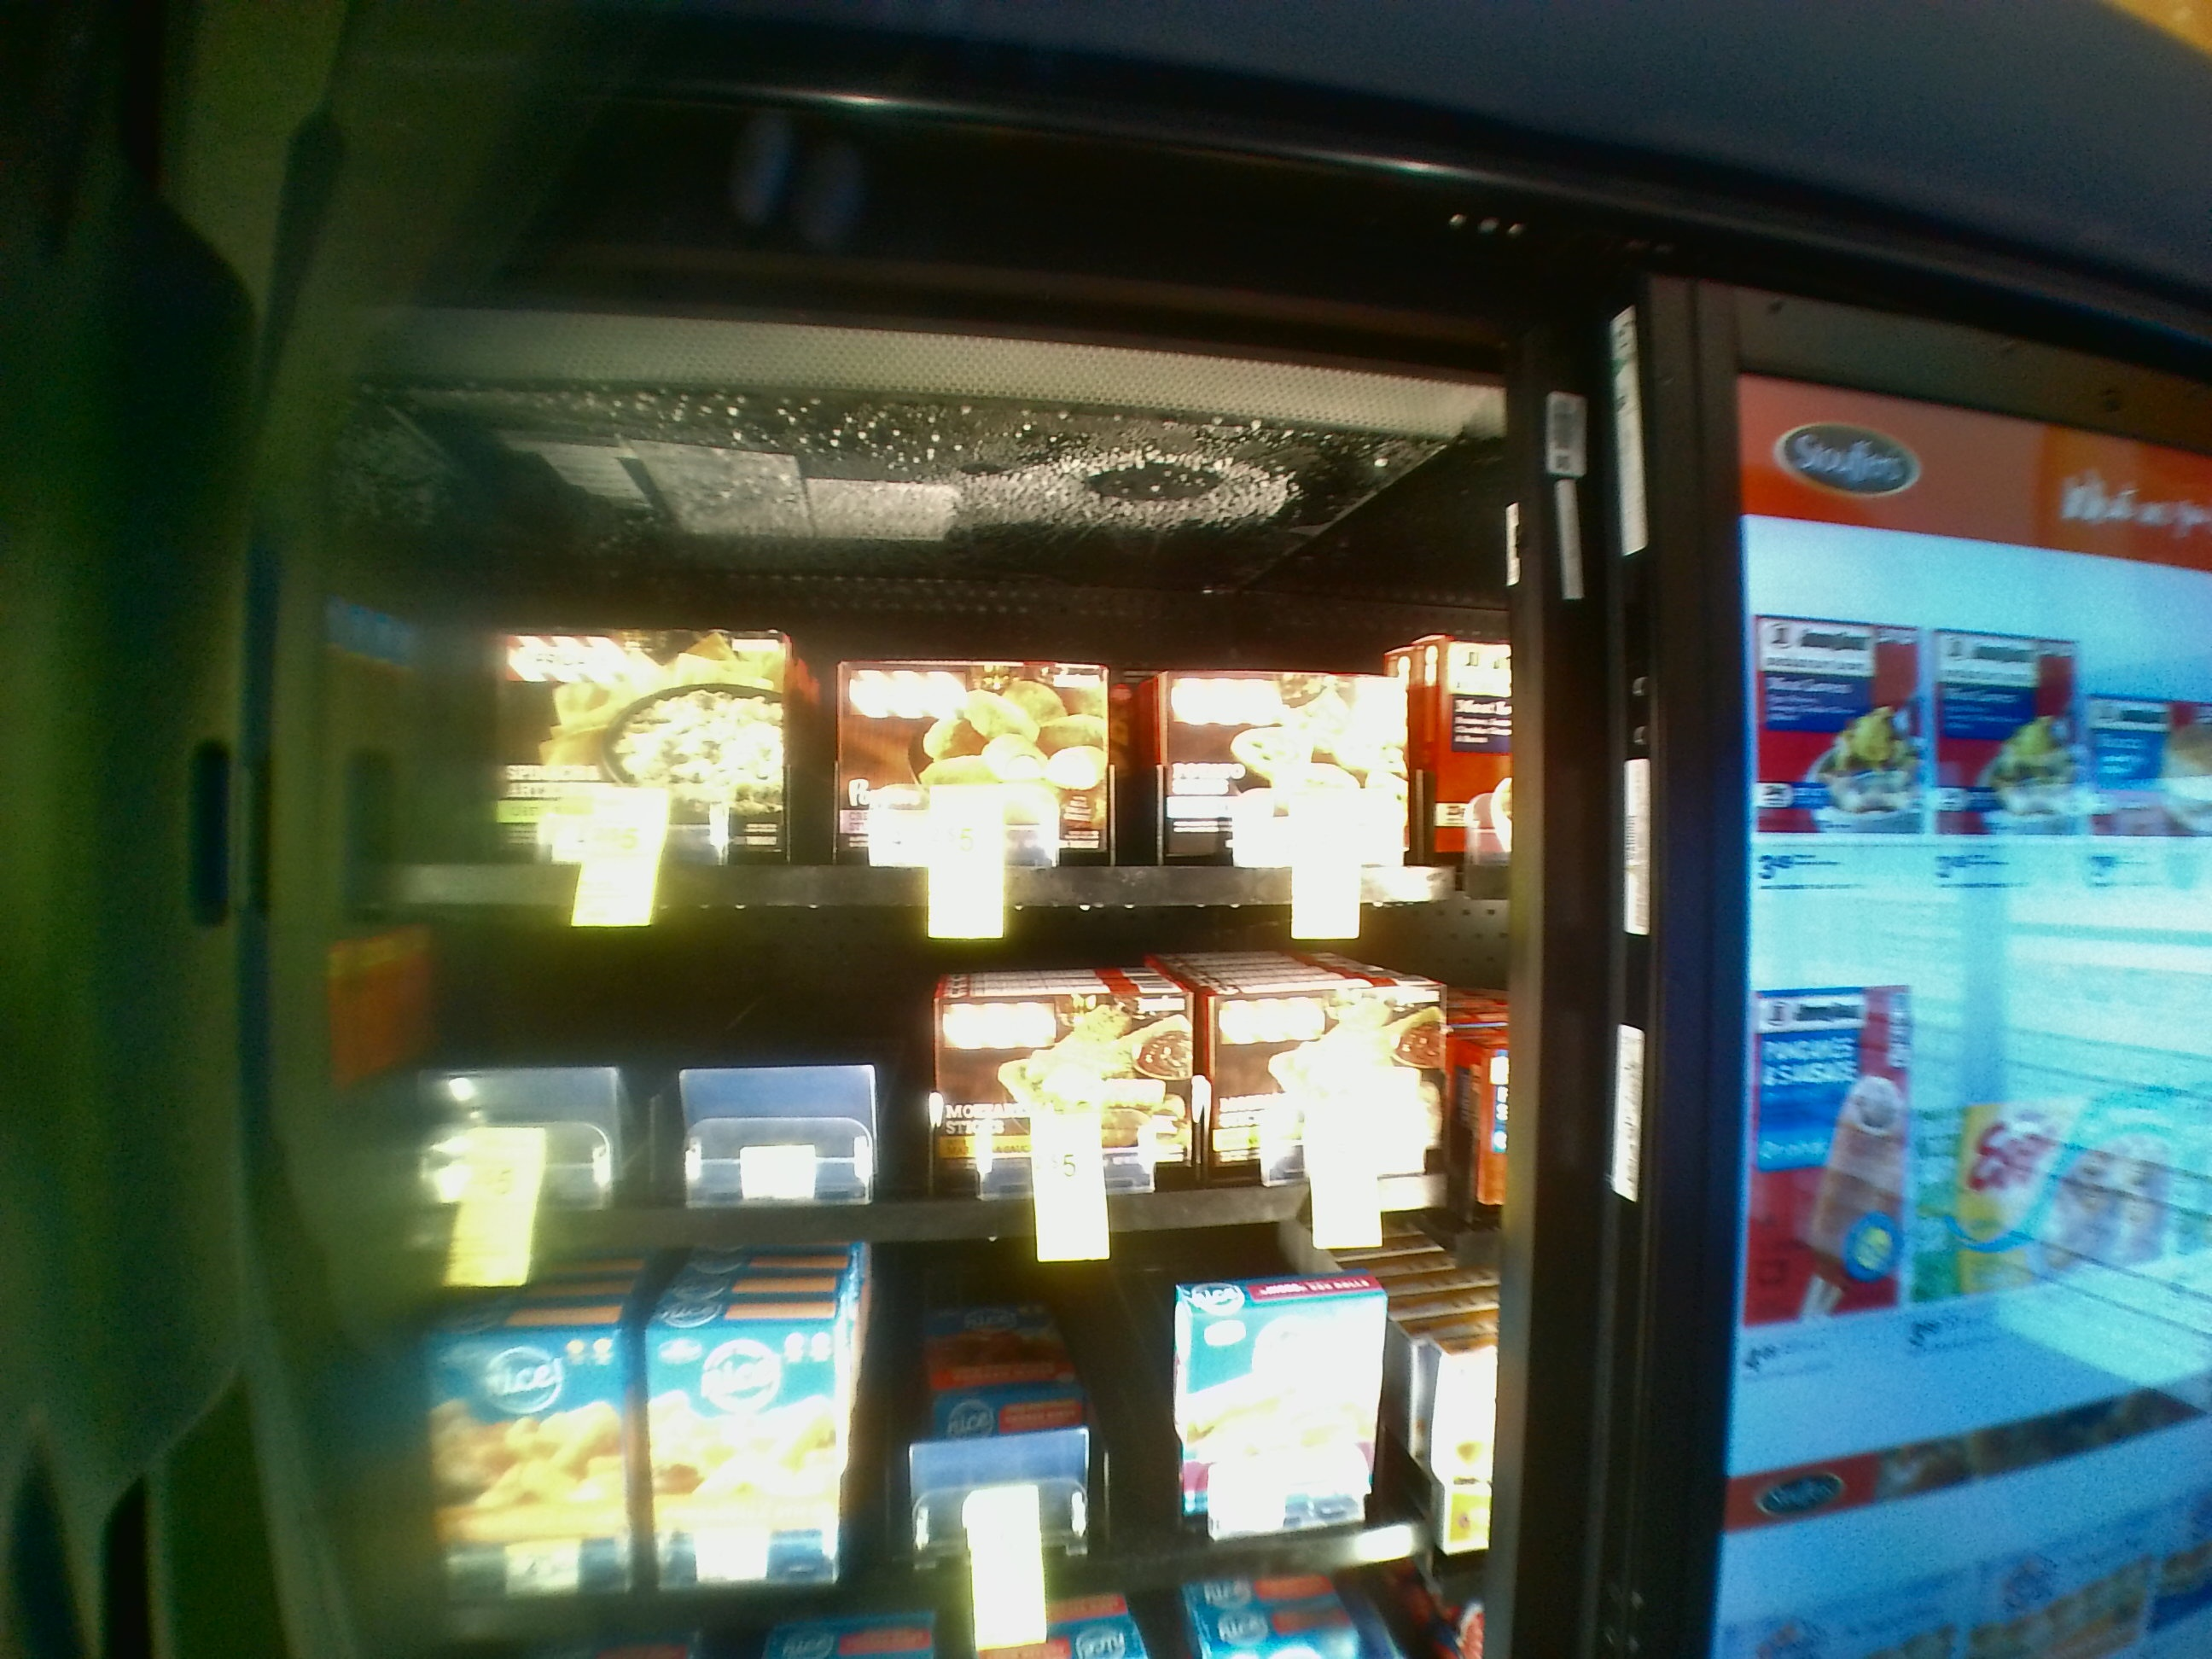shelf: (336, 453, 1498, 903), (336, 915, 1510, 1279)
